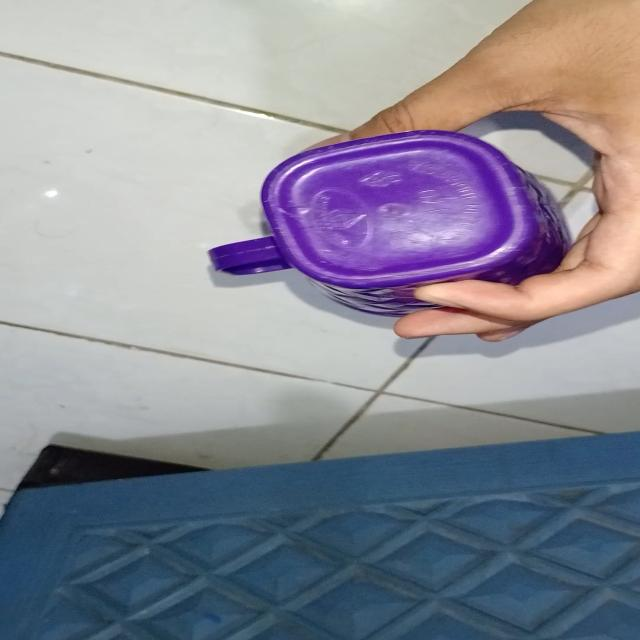gelas bekas: (207, 128, 575, 320)
